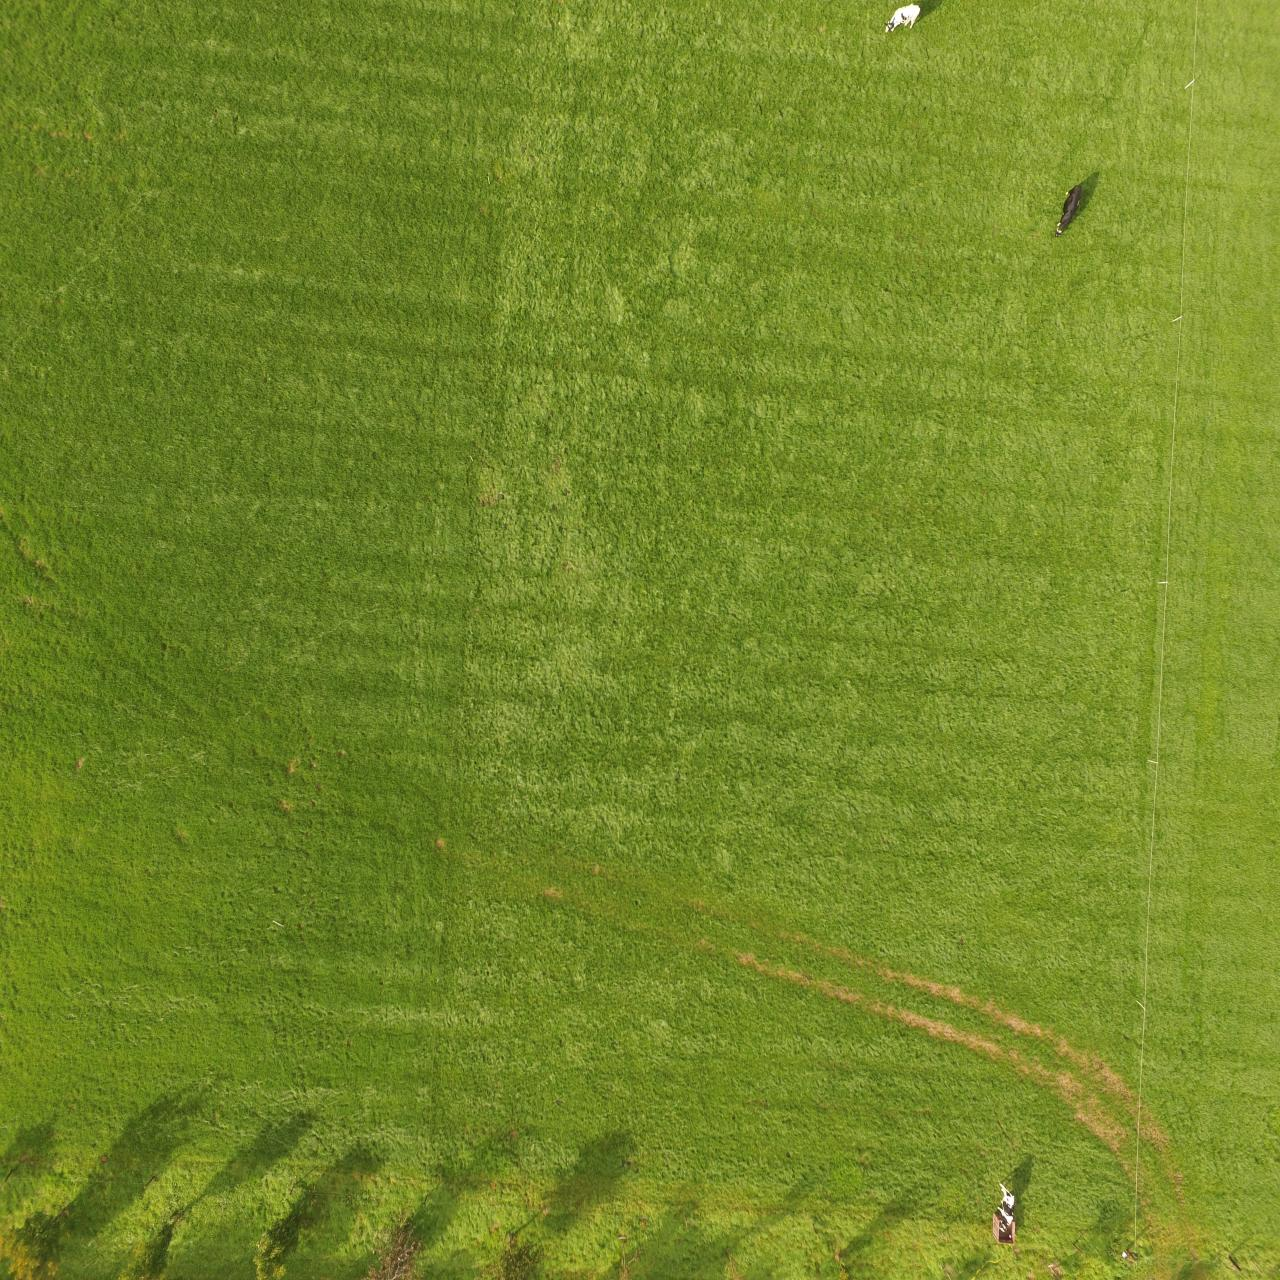cow: (1053, 181, 1083, 234), (883, 0, 922, 36), (996, 1182, 1014, 1232)
